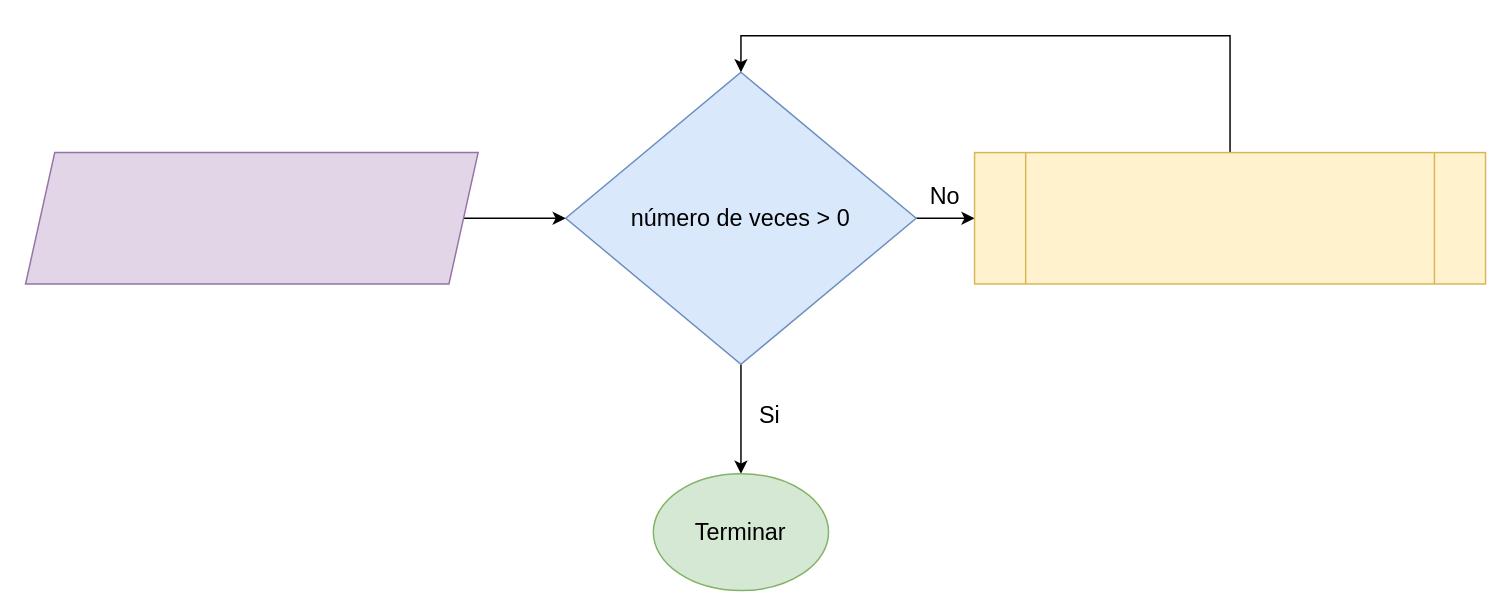
Image size: 1511x616. Some labels were removed from this diagram. The shapes that lost their labels are listed below. From the top down, each one's centre as x and y in pixels, then its label:
At pixel 251 217: "Palabra(string) , número de veces (int)".
At pixel 1229 217: "print(Palabra) número de veces = número de veces - 1".
